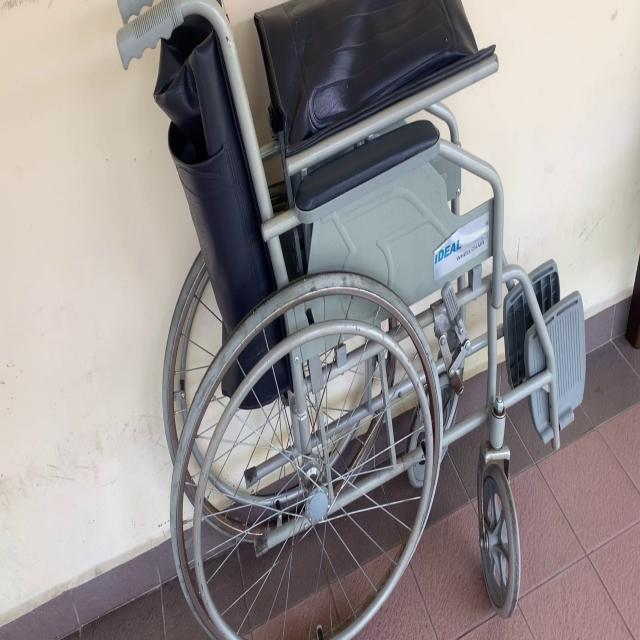wheelchair: (110, 0, 600, 640)
